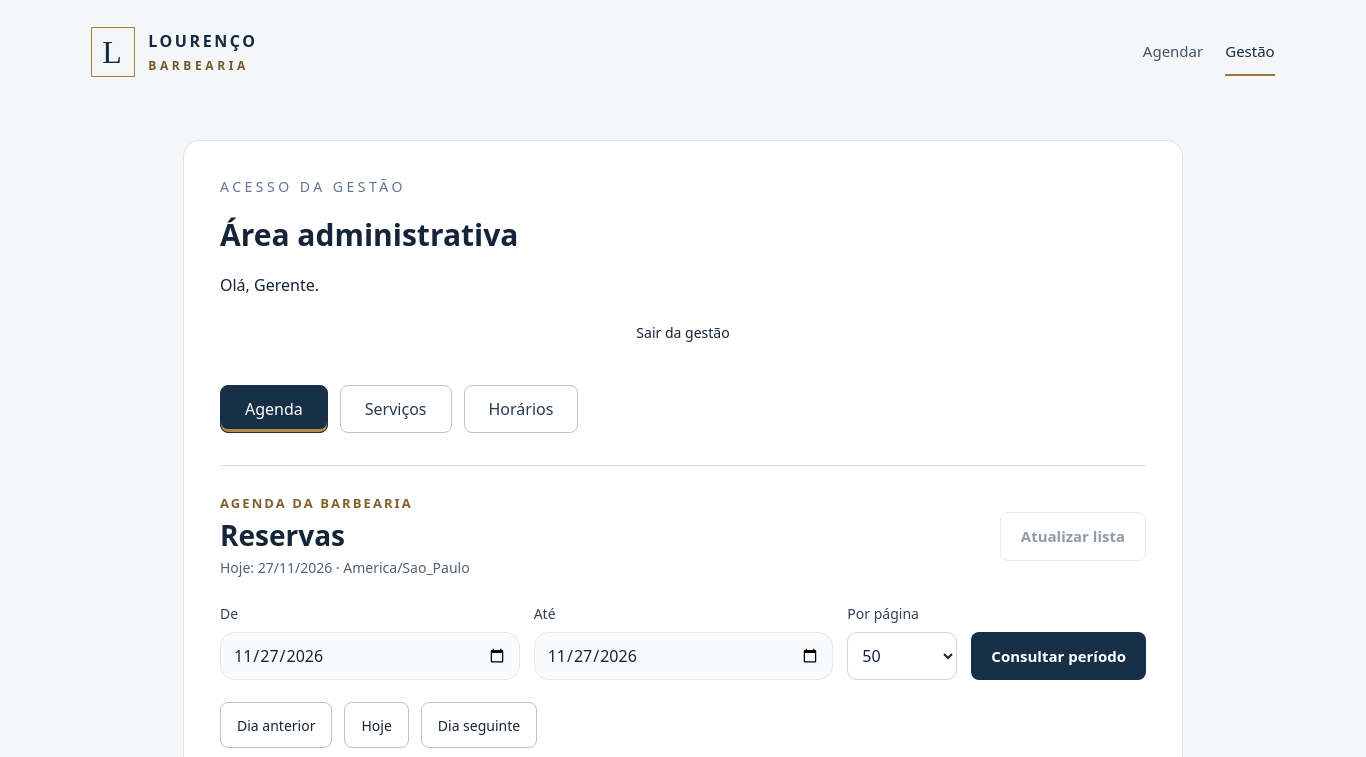
Test: clears private state on authorization failure 401
The image size is (1366, 757).
Click the button "Horários" at (521, 409), box [464,385,578,433]
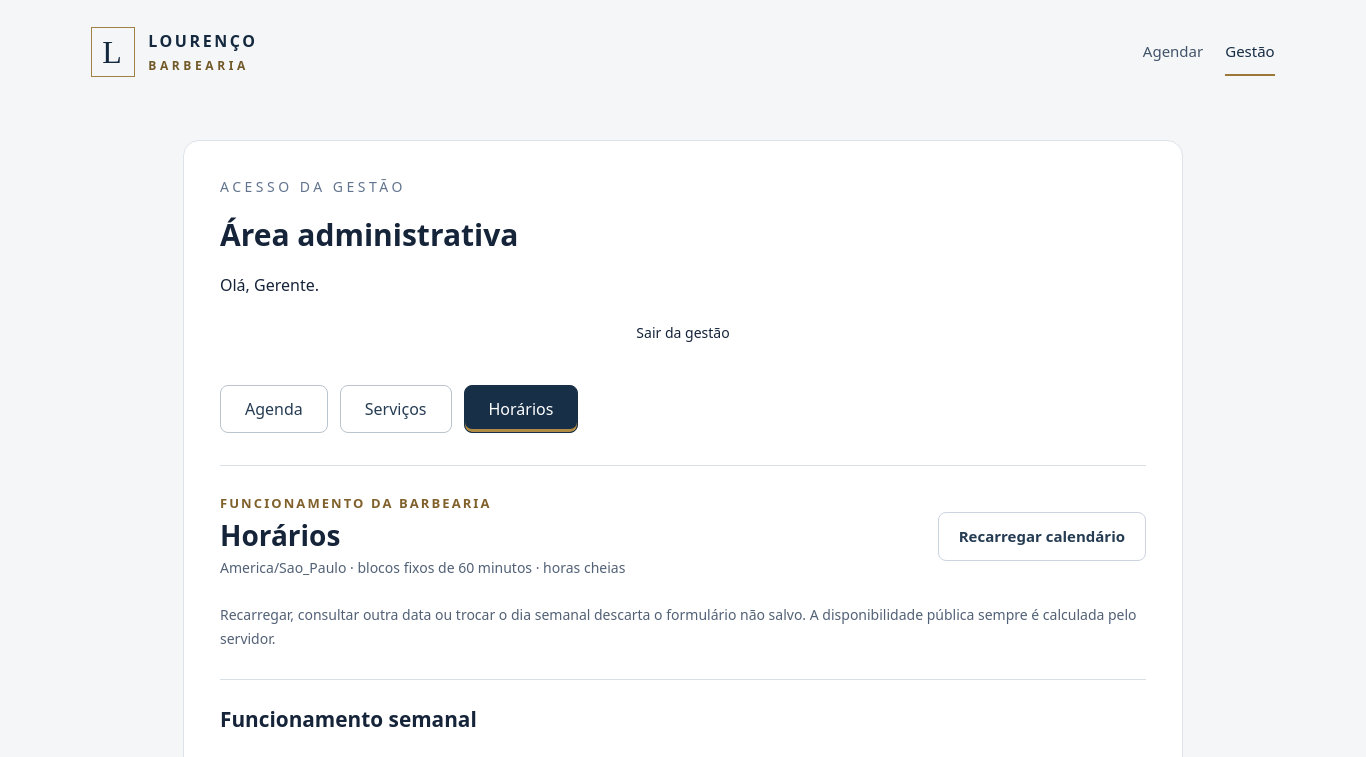
Click the button "Recarregar calendário" at (1042, 537), box [938,512,1146,561]
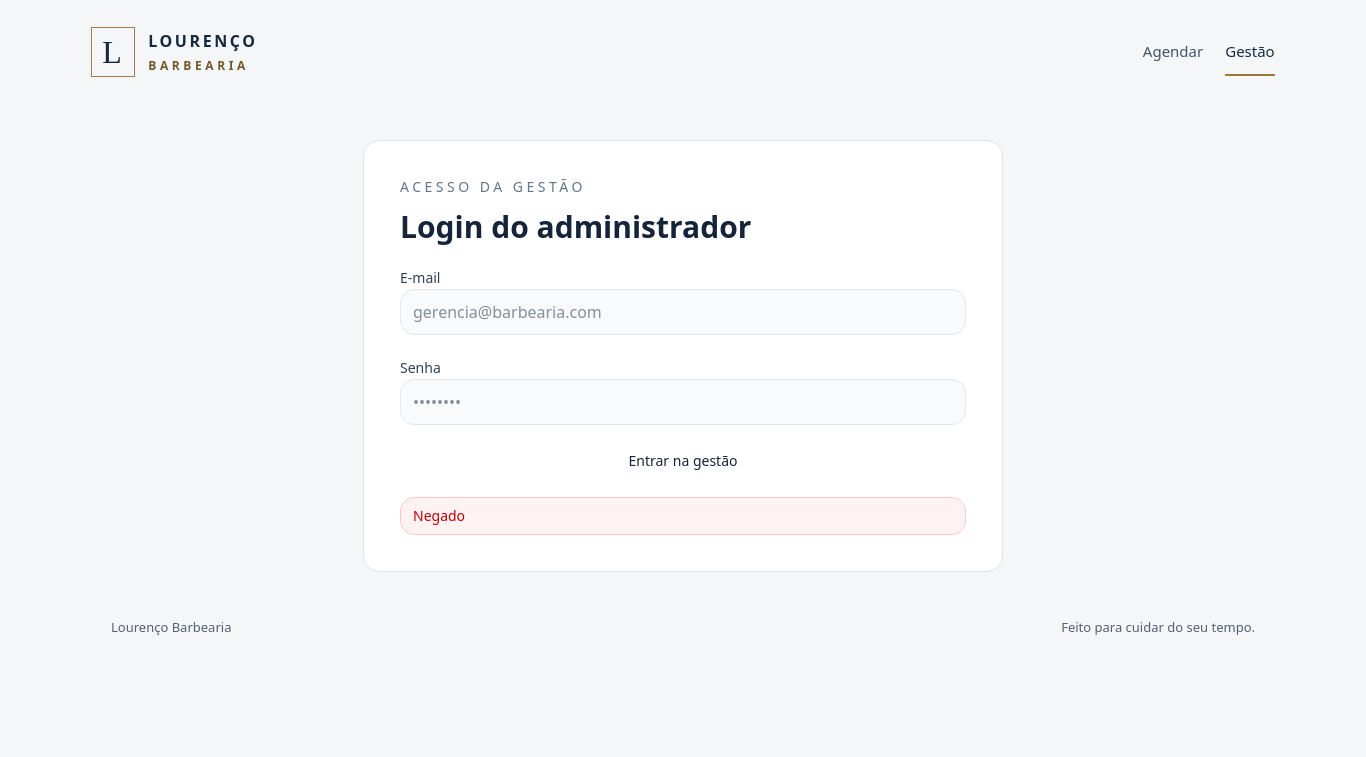
Check: the heading "Login do administrador" is shown, box [400,206,751,247]
